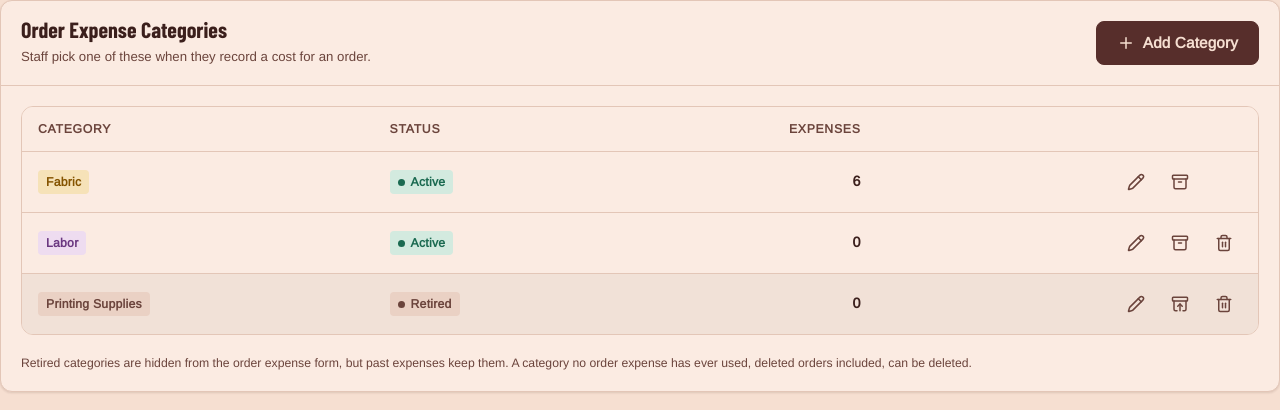
Test: S1 list card: order-expense-categories › brings an entry back with the per-list toast
Expected: the table named "Order expense categories" is shown, 22,107 -> 1258,334
Click the button named "Use Printing Supplies again": (1180, 304) 1162,286 -> 1198,322
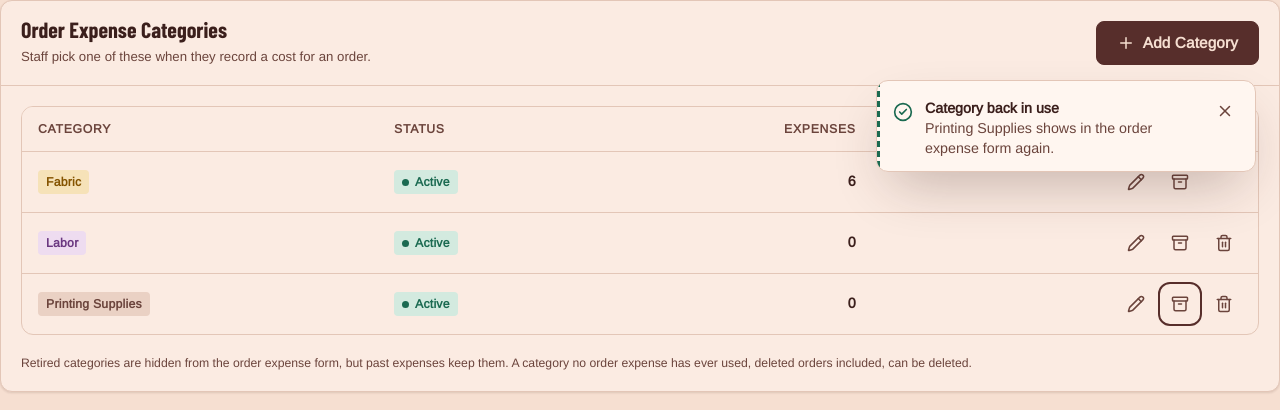
Expected: the text "Active" is shown, 394,292 -> 458,316
Expected: the text "Category back in use" is shown, 925,101 -> 1059,116
